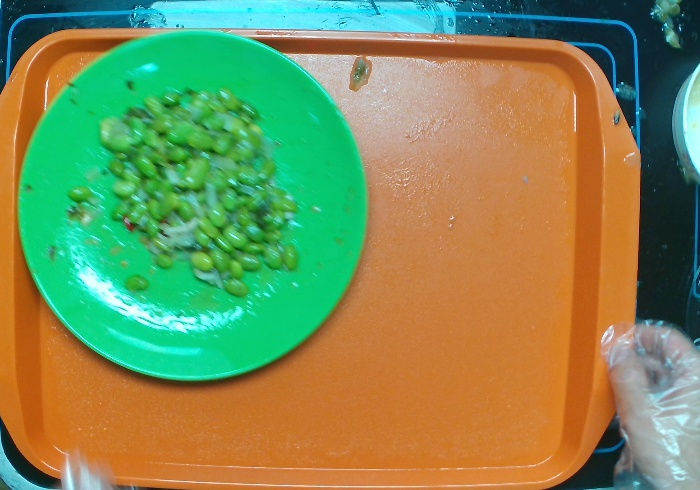HZYJPL-Lv_Se_Yuan_Pan: (18, 27, 369, 384)
